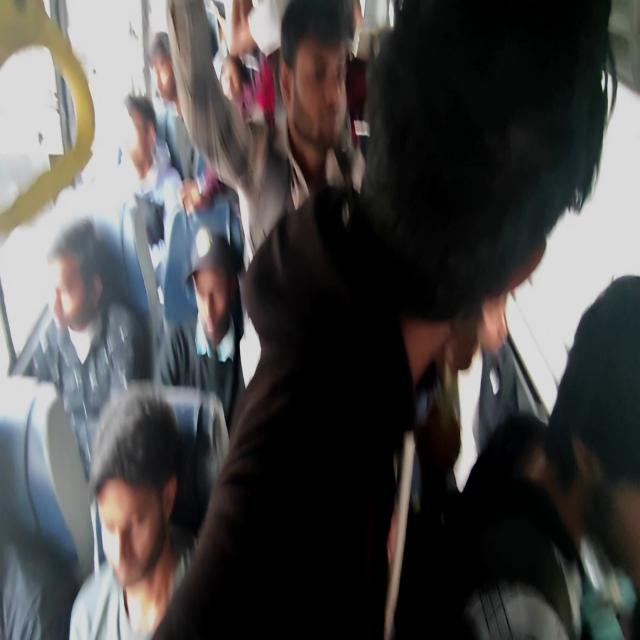person: (148, 1, 617, 637), (167, 0, 366, 261), (12, 216, 154, 481), (546, 272, 639, 638), (68, 385, 199, 638), (453, 410, 584, 638), (157, 199, 246, 432), (118, 92, 195, 325), (147, 30, 219, 214)
